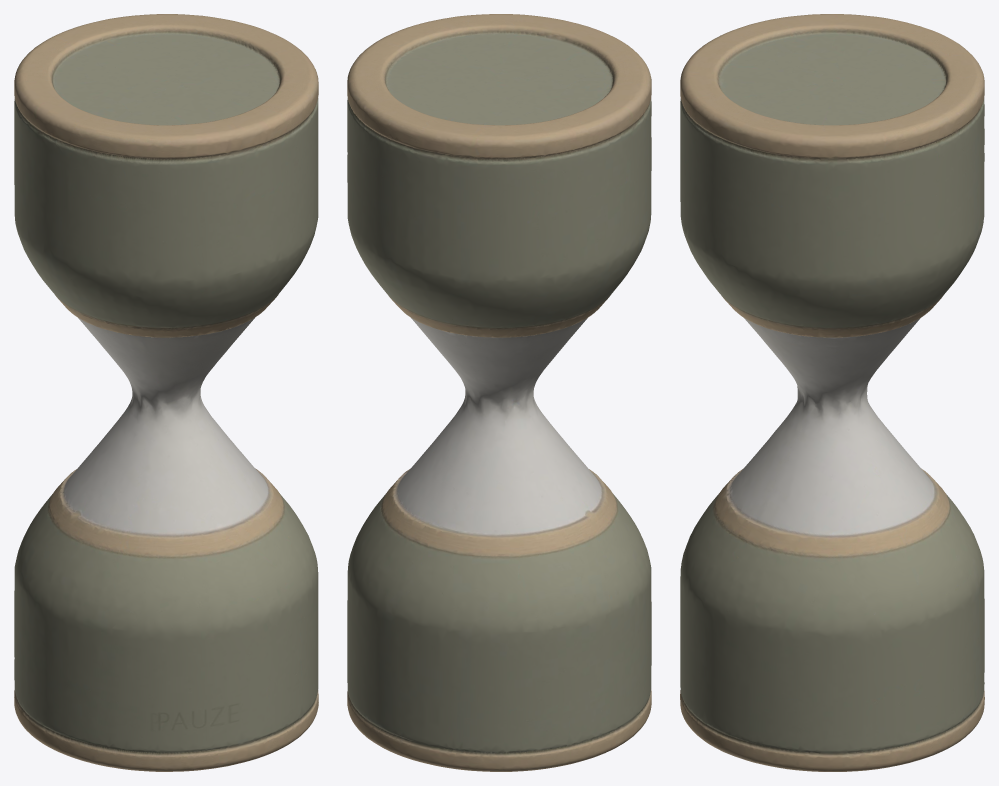
The model's file is scentglass.glb.
3 views of the same model, side by side, from view 1: azimuth 30°, elevation 25°; view 2: azimuth 150°, elevation 25°; view 3: azimuth 270°, elevation 25° (orthographic).
Size of the model in its own units: 0.8248 by 1.9 by 0.825.
Materials: 1 (1 with a texture image).
